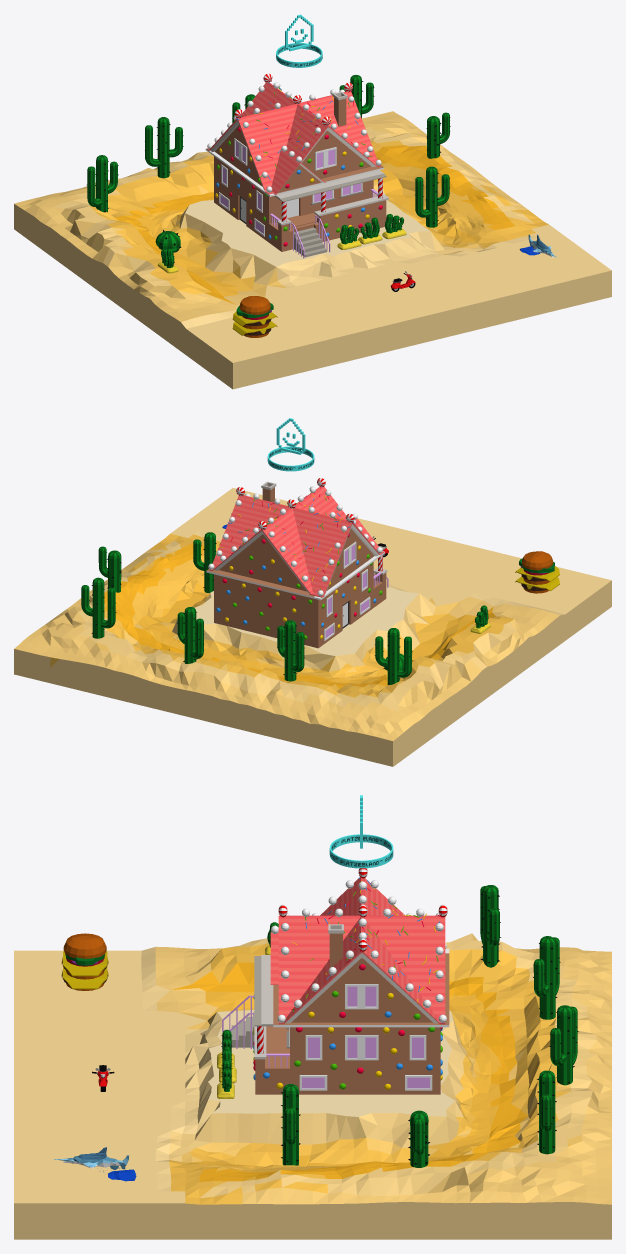
The picture shows the model from 3 angles, top to bottom: view 1: azimuth 30°, elevation 25°; view 2: azimuth 150°, elevation 25°; view 3: azimuth 270°, elevation 25°; orthographic projection. The views are drawn at different scales.
Visible parts, largest first — view 1: Cube.001, Cube.1203, OBJRANDOM_HAMBURGER, Cylinder.044, Cylinder.037, Cylinder.045, TYPE_PREMIUM, Cylinder.038, Cylinder.042; view 2: Cube.001, Cube.1203, OBJRANDOM_HAMBURGER, Cylinder.042, Cylinder.045, Cylinder.044, Cylinder.043, TYPE_PREMIUM, Cylinder.037, Cylinder.038; view 3: Cube.001, Cube.1203, OBJRANDOM_HAMBURGER, Cylinder.044, Cylinder.043, Cylinder.045, Cylinder.042, Cylinder.037, TYPE_PREMIUM, Cylinder.038, ANIMAL_PEZ_ESPADA.
Part boxes in pixels (x1,y1,x2,y2): Cube.001: [14, 111, 611, 389]; Cube.1203: [205, 73, 388, 258]; OBJRANDOM_HAMBURGER: [232, 296, 277, 337]; Cylinder.044: [145, 117, 183, 178]; Cylinder.037: [415, 166, 449, 227]; Cylinder.045: [87, 155, 118, 212]; TYPE_PREMIUM: [276, 14, 322, 67]; Cylinder.038: [426, 112, 450, 158]; Cylinder.042: [339, 75, 374, 118]; Cube.001: [14, 488, 611, 766]; Cube.1203: [206, 478, 388, 648]; OBJRANDOM_HAMBURGER: [515, 551, 559, 593]; Cylinder.042: [81, 577, 116, 638]; Cylinder.045: [374, 628, 412, 684]; Cylinder.044: [277, 620, 304, 681]; Cylinder.043: [177, 607, 203, 663]; TYPE_PREMIUM: [267, 418, 314, 471]; Cylinder.037: [193, 532, 220, 592]; Cylinder.038: [98, 546, 121, 592]; Cube.001: [14, 933, 611, 1239]; Cube.1203: [222, 868, 449, 1094]; OBJRANDOM_HAMBURGER: [61, 933, 108, 990]; Cylinder.044: [533, 936, 560, 1019]; Cylinder.043: [549, 1005, 578, 1085]; Cylinder.045: [480, 885, 500, 967]; Cylinder.042: [537, 1070, 556, 1154]; Cylinder.037: [281, 1084, 300, 1165]; TYPE_PREMIUM: [329, 795, 393, 868]; Cylinder.038: [408, 1110, 429, 1167]; ANIMAL_PEZ_ESPADA: [53, 1147, 136, 1181].
Bounding box in the file's own units: 4002 × 2441 × 4001.
44 materials, 4 textured.
